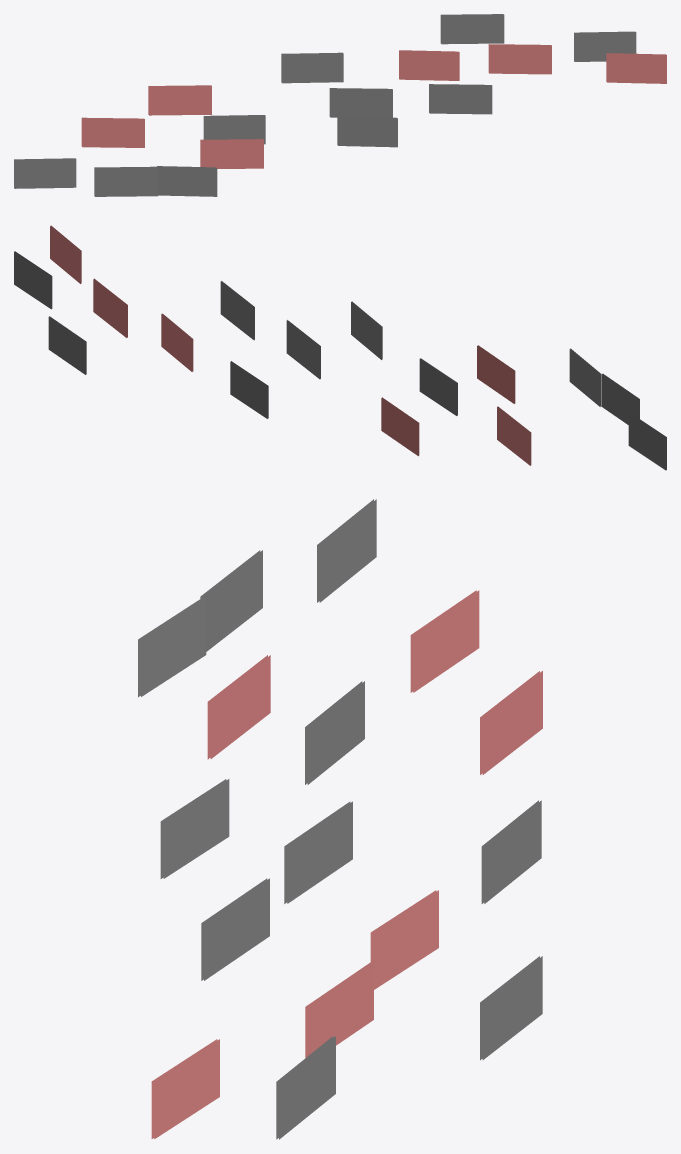
Rendered from Crowd_08.FBX.
The picture shows the model from 3 angles, top to bottom: view 1: azimuth 30°, elevation 25°; view 2: azimuth 150°, elevation 25°; view 3: azimuth 270°, elevation 25°; orthographic projection. The views are drawn at different scales.
Parts seen in each view (by area): view 1: crowd008; view 2: crowd008; view 3: crowd008.
Part boxes in pixels (x1,y1,x2,y2): crowd008: (14,14,666,196); crowd008: (14,225,666,470); crowd008: (138,499,542,1139).
Size of the model in its own units: 1077 by 50.13 by 316.
